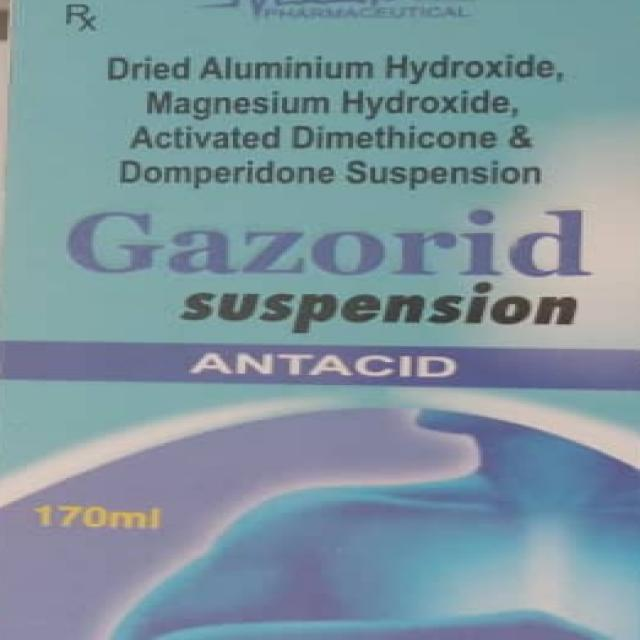drug-name: (62, 202, 594, 282)
